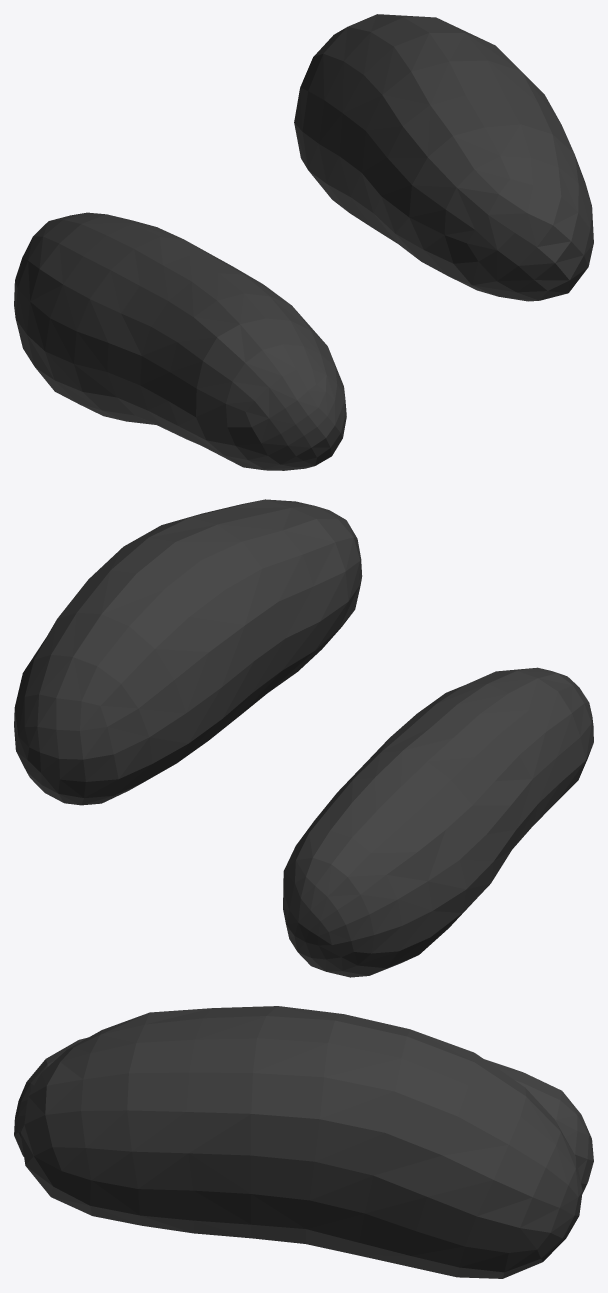
Rendered from Palmar_sesamoid_5.glb.
3 views of the same model, one above another, from view 1: azimuth 30°, elevation 25°; view 2: azimuth 150°, elevation 25°; view 3: azimuth 270°, elevation 25° (orthographic). The views are drawn at different scales.
Visible parts, largest first — view 1: Palmar_sesamoid_5; view 2: Palmar_sesamoid_5; view 3: Palmar_sesamoid_5.
Part boxes in pixels (box(x1,y1,x2,y2)): Palmar_sesamoid_5: box(14, 14, 593, 470); Palmar_sesamoid_5: box(14, 499, 593, 977); Palmar_sesamoid_5: box(14, 1006, 593, 1278).
Size of the model in its own units: 0.1057 by 0.0793 by 0.1133.
1 material, 1 textured.
